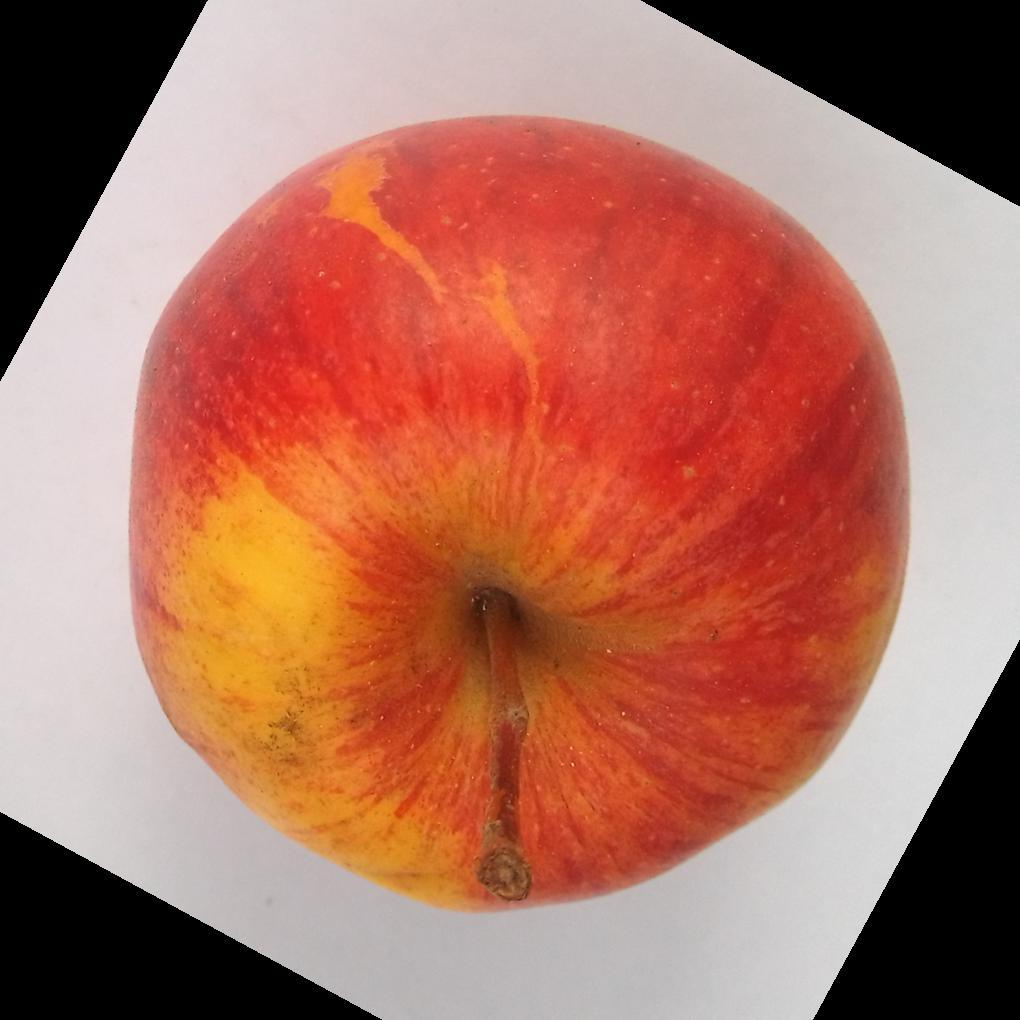FreshGuava: (123, 116, 913, 921)
